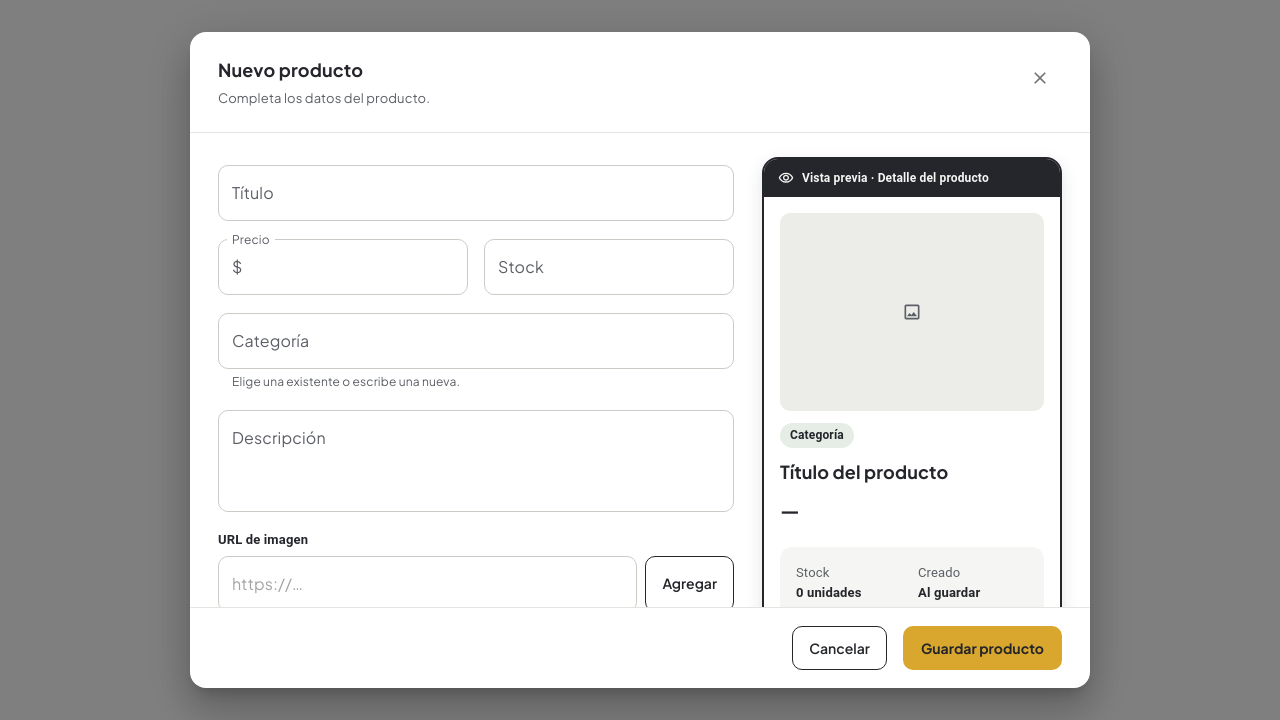
Test: ProductFormDialog › rejects the price 0
Type "0" into the field labelled "Precio" at point(359, 267), box x1=250 y1=239 x2=468 y2=295
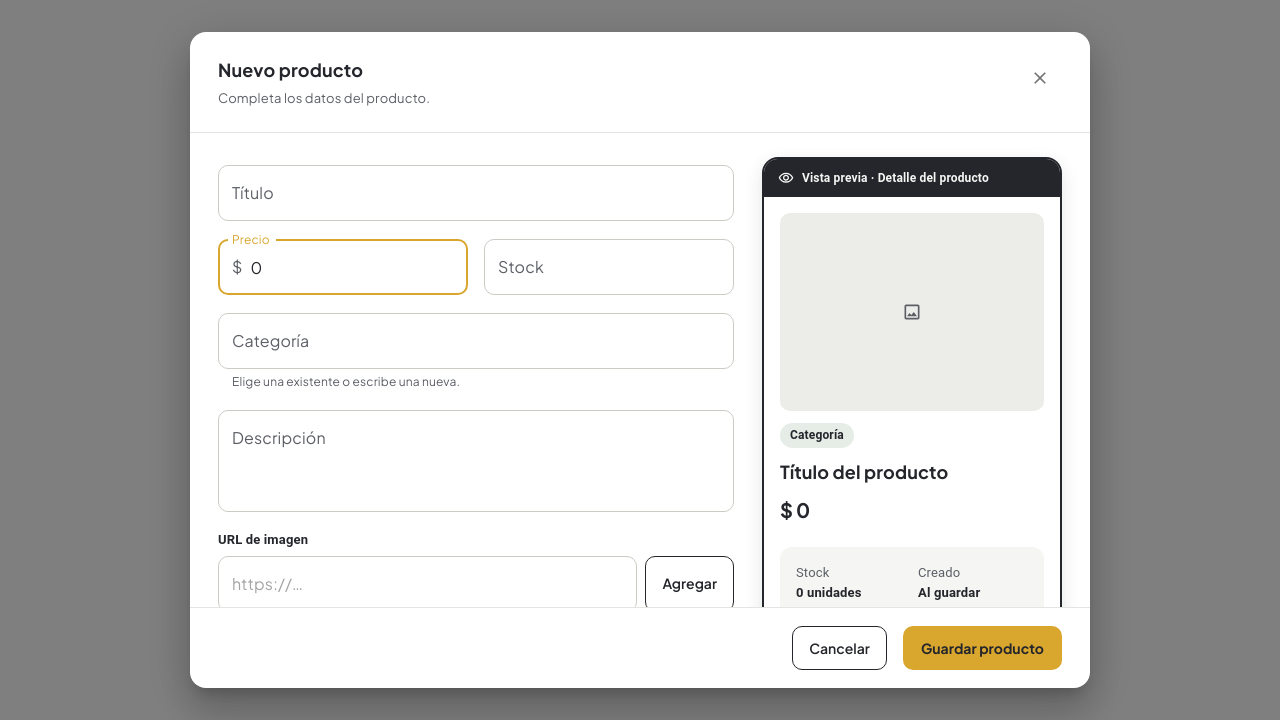
Click the button "Guardar producto" at point(982, 648), box x1=903 y1=626 x2=1062 y2=670
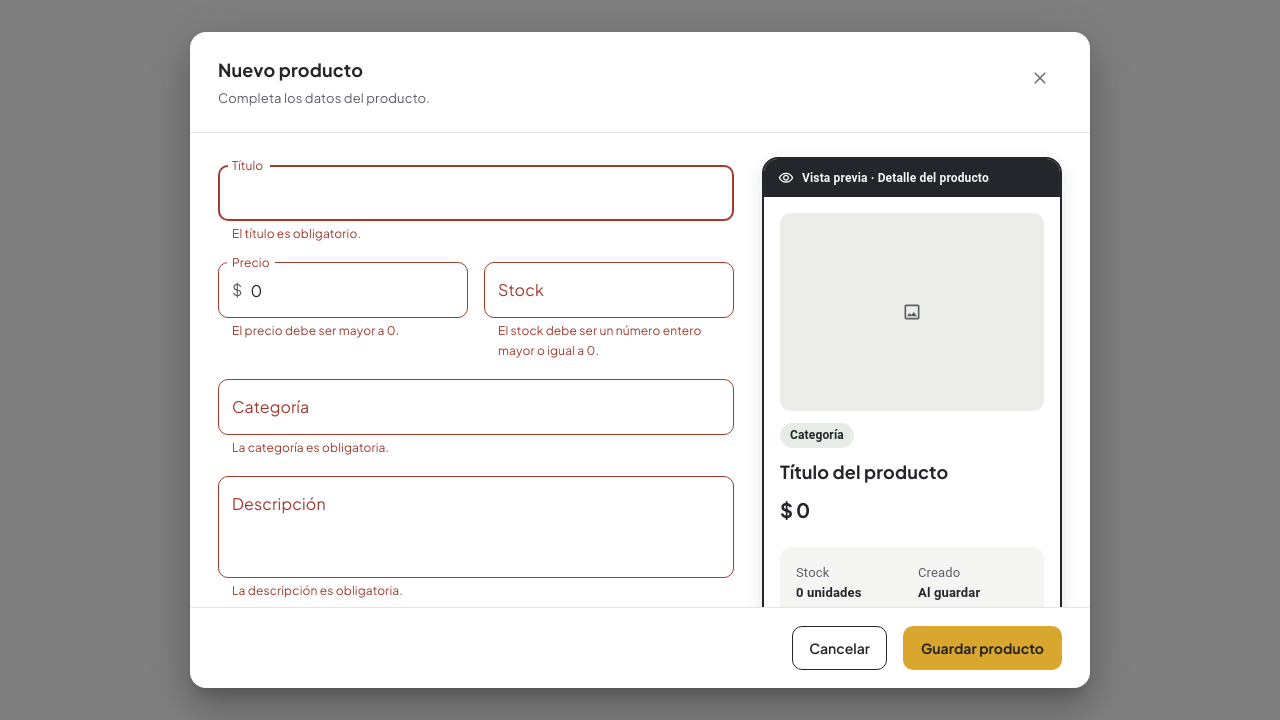
expect the text "El precio debe ser mayor a 0." is shown: met, box x1=232 y1=323 x2=399 y2=338
